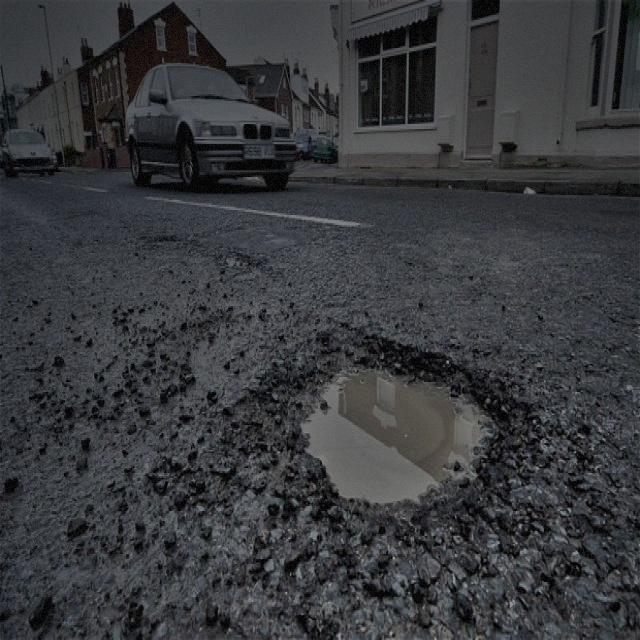pothole: (289, 336, 508, 531)
